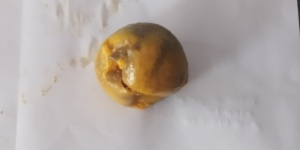BAD: (94, 22, 191, 110)
